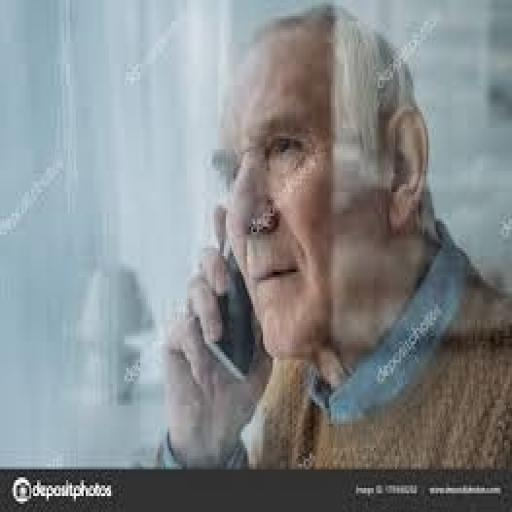calling: (154, 3, 510, 469)
